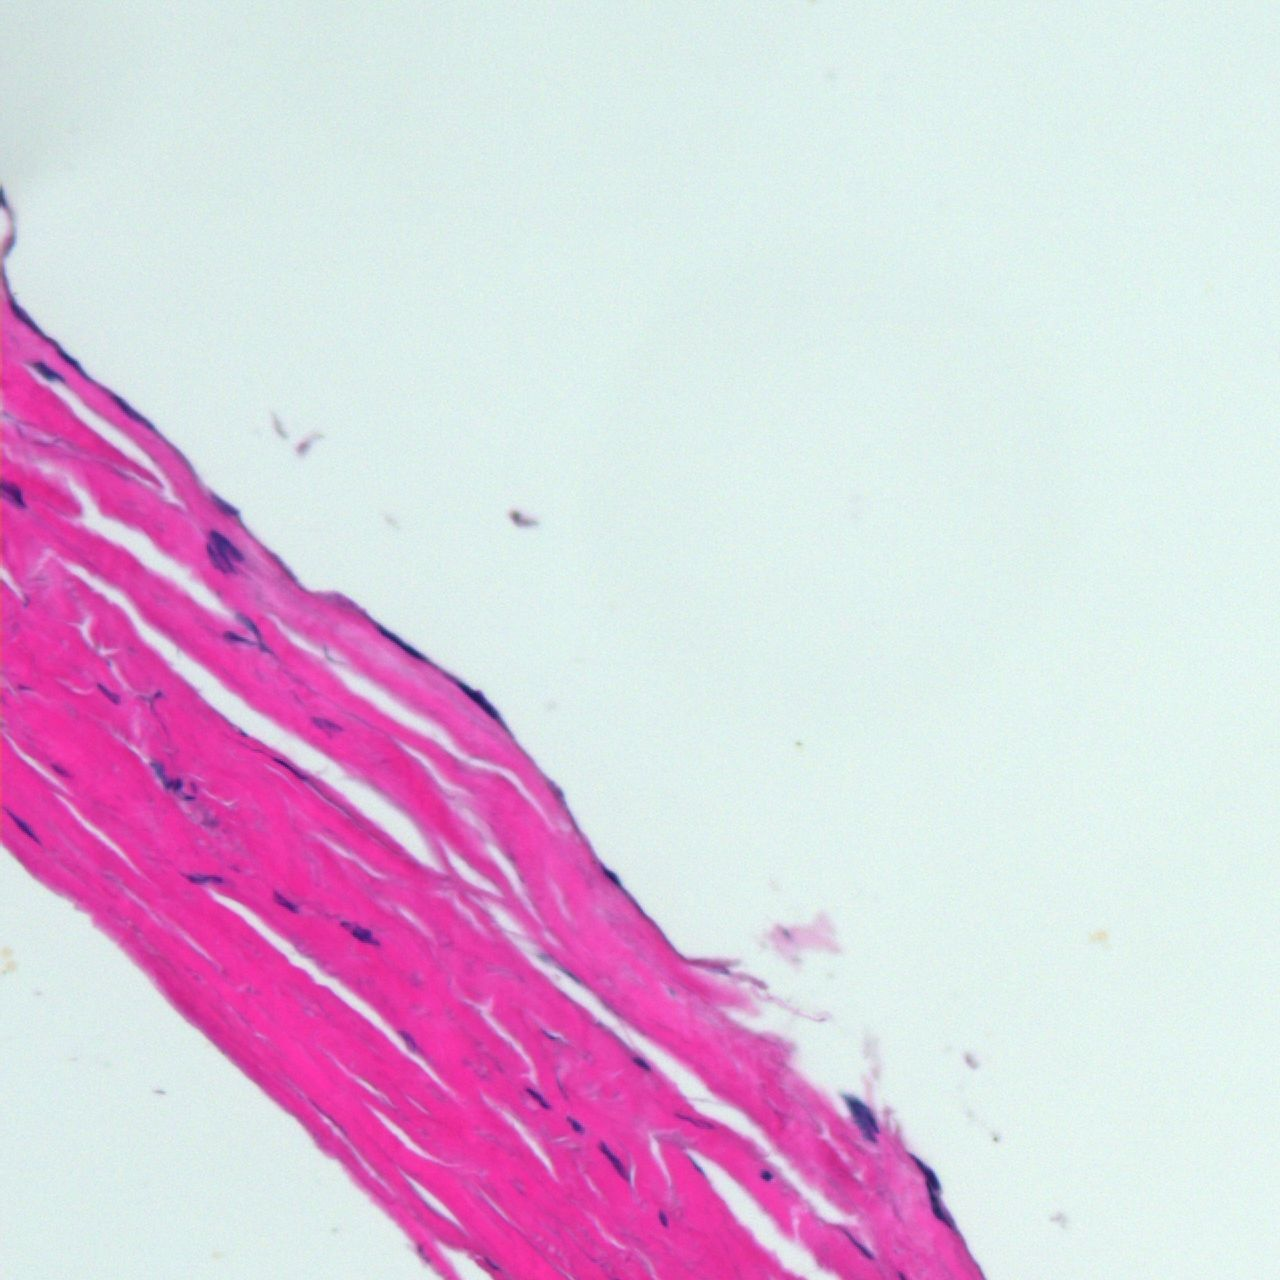nucleus-HE: (4, 292, 110, 405), (902, 1147, 962, 1230), (448, 670, 511, 728), (835, 1084, 888, 1148), (367, 617, 424, 666), (109, 393, 156, 439), (339, 913, 385, 953), (205, 528, 242, 577), (147, 752, 186, 797), (4, 807, 44, 849), (592, 1135, 628, 1177), (272, 753, 310, 787), (268, 887, 302, 918), (523, 1083, 554, 1114), (629, 1051, 655, 1078), (599, 862, 623, 891), (562, 1112, 587, 1137), (180, 871, 220, 886), (659, 1208, 668, 1230), (761, 1169, 770, 1180)
